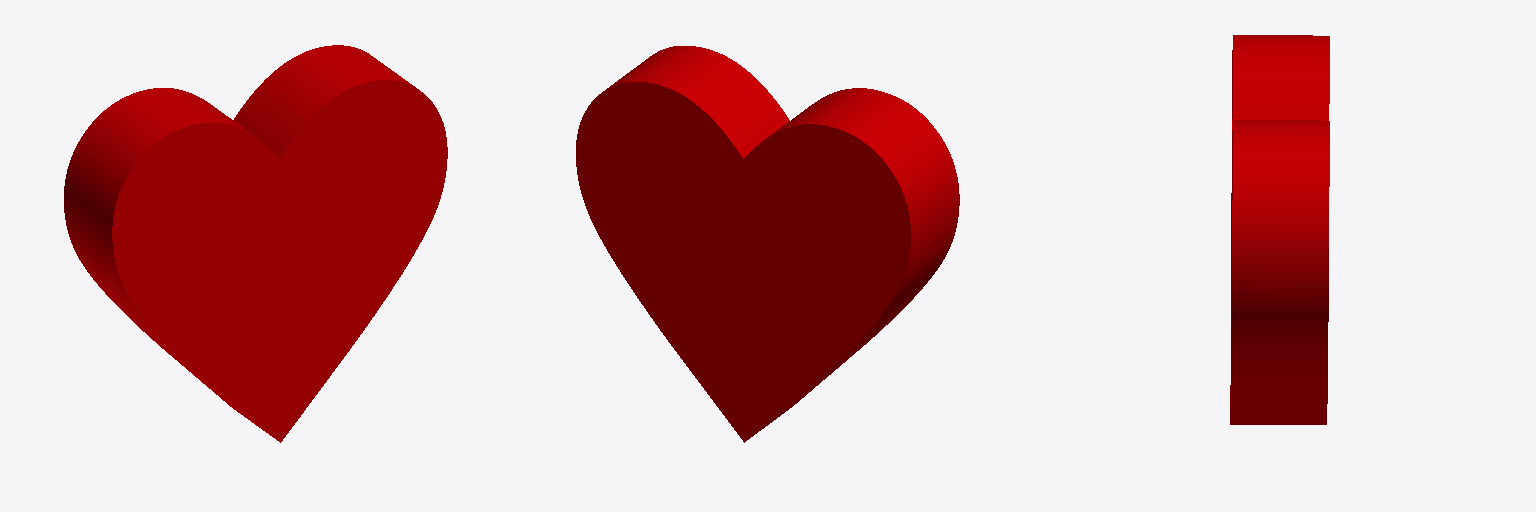
Rendered from heart5.obj.
3 renders of one model, left to right at view 1: azimuth 30°, elevation 25°; view 2: azimuth 150°, elevation 25°; view 3: azimuth 270°, elevation 25°, orthographic.
Parts seen in each view (by area): view 1: テキスト; view 2: テキスト; view 3: テキスト.
Boxes of the visible parts, x1,y1,x2,y2 form: テキスト: [64, 45, 447, 442]; テキスト: [576, 46, 959, 442]; テキスト: [1230, 35, 1329, 424].
Size of the model in its own units: 3.07 by 2.96 by 0.7877.